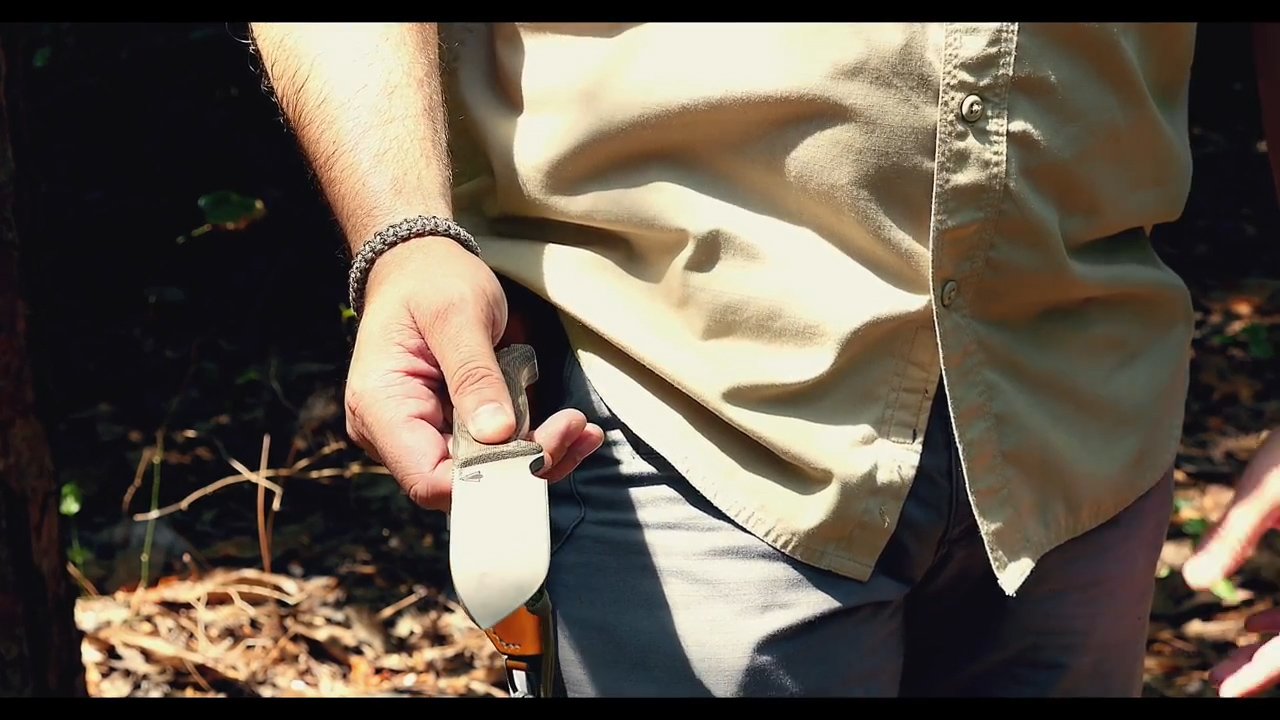knife: (335, 339, 612, 637)
